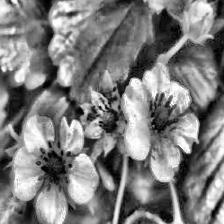Blossom Blight: (34, 140, 76, 197), (144, 92, 182, 143), (91, 96, 125, 135)
